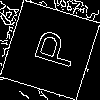P: (24, 25, 79, 70)
